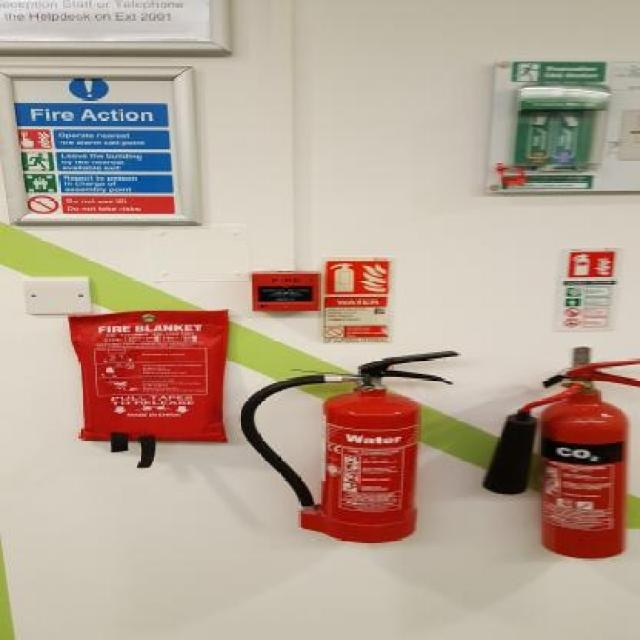fire extinguisher: (235, 352, 461, 545), (481, 356, 640, 558)
